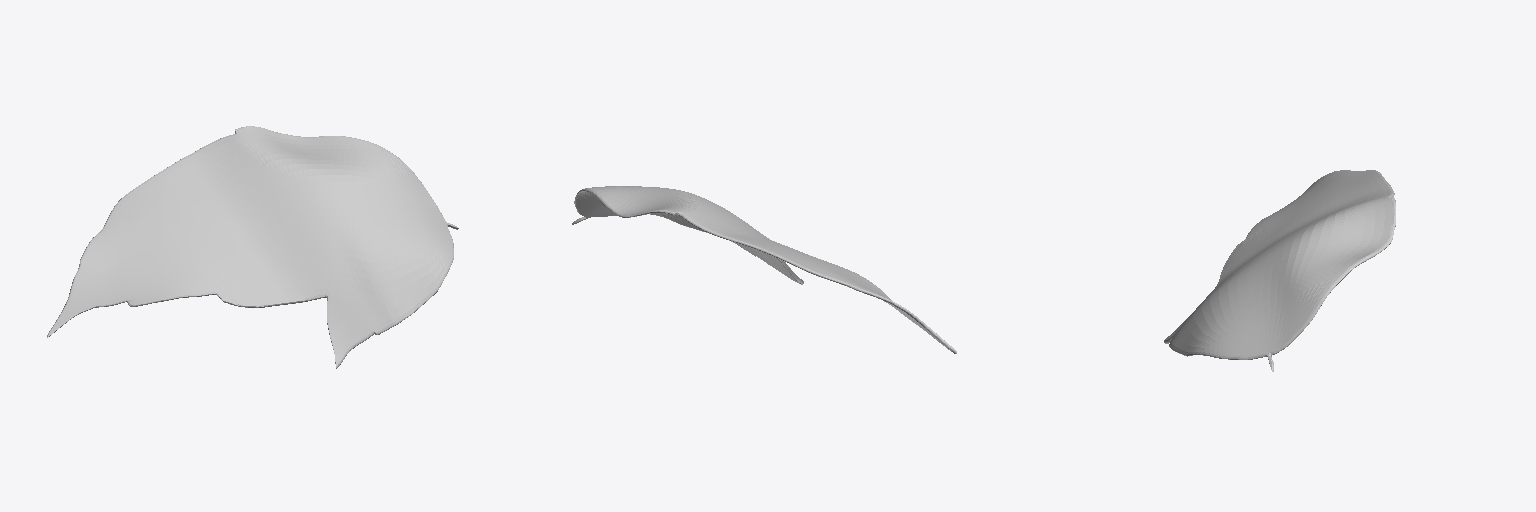
File: leaf.obj
3 renders of one model, left to right at view 1: azimuth 30°, elevation 25°; view 2: azimuth 150°, elevation 25°; view 3: azimuth 270°, elevation 25°, orthographic.
Visible parts, largest first — view 1: Plane; view 2: Plane; view 3: Plane.
Part boxes in pixels (bbox=[...]): Plane: bbox=[47, 126, 458, 368]; Plane: bbox=[572, 186, 956, 353]; Plane: bbox=[1164, 170, 1395, 371].
Size of the model in its own units: 4.44 by 1.62 by 2.25.